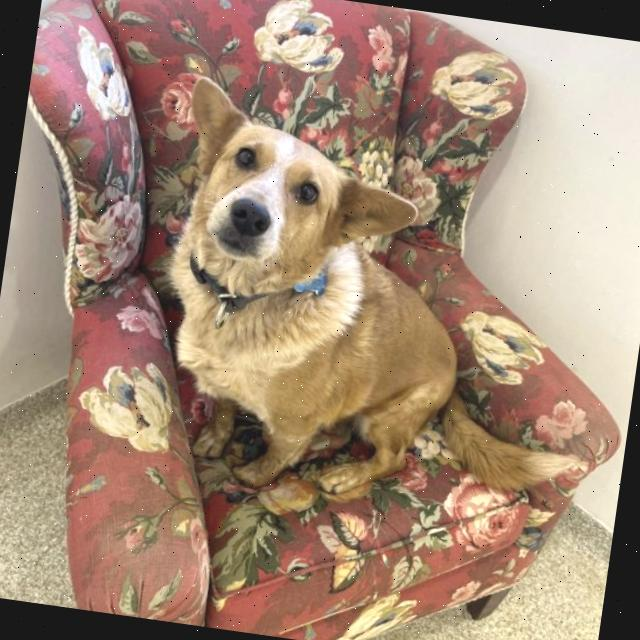corgi_dog: (146, 67, 438, 321)
